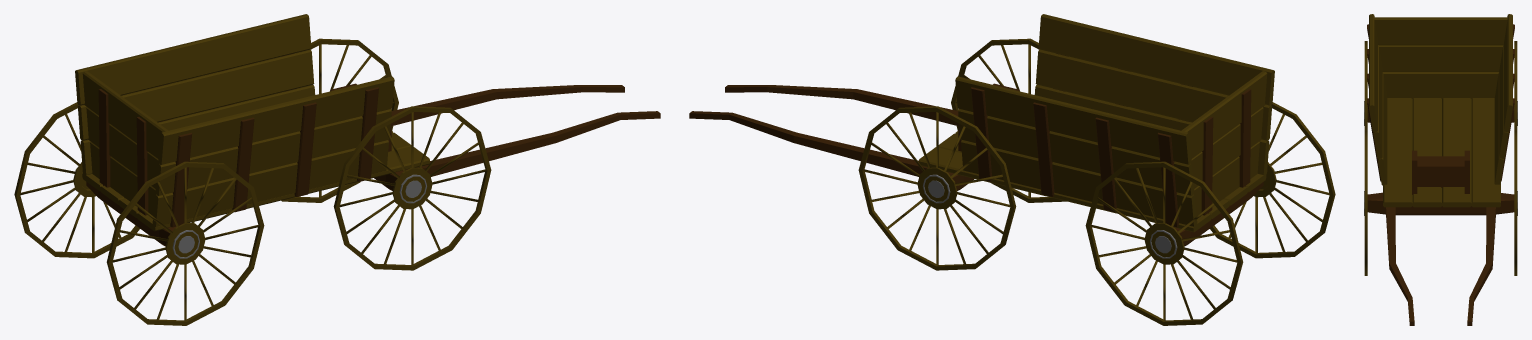
Rendered from hort wagon.fbx.
3 views of the same model, side by side, from view 1: azimuth 30°, elevation 25°; view 2: azimuth 150°, elevation 25°; view 3: azimuth 270°, elevation 25° (orthographic). The views are drawn at different scales.
Parts seen in each view (by area): view 1: Cube; view 2: Cube; view 3: Cube.
Part boxes in pixels (x1,y1,x2,y2): Cube: [14, 14, 660, 325]; Cube: [689, 14, 1335, 325]; Cube: [1364, 14, 1517, 325].
Bounding box in the file's own units: 1059 × 340 × 300.
